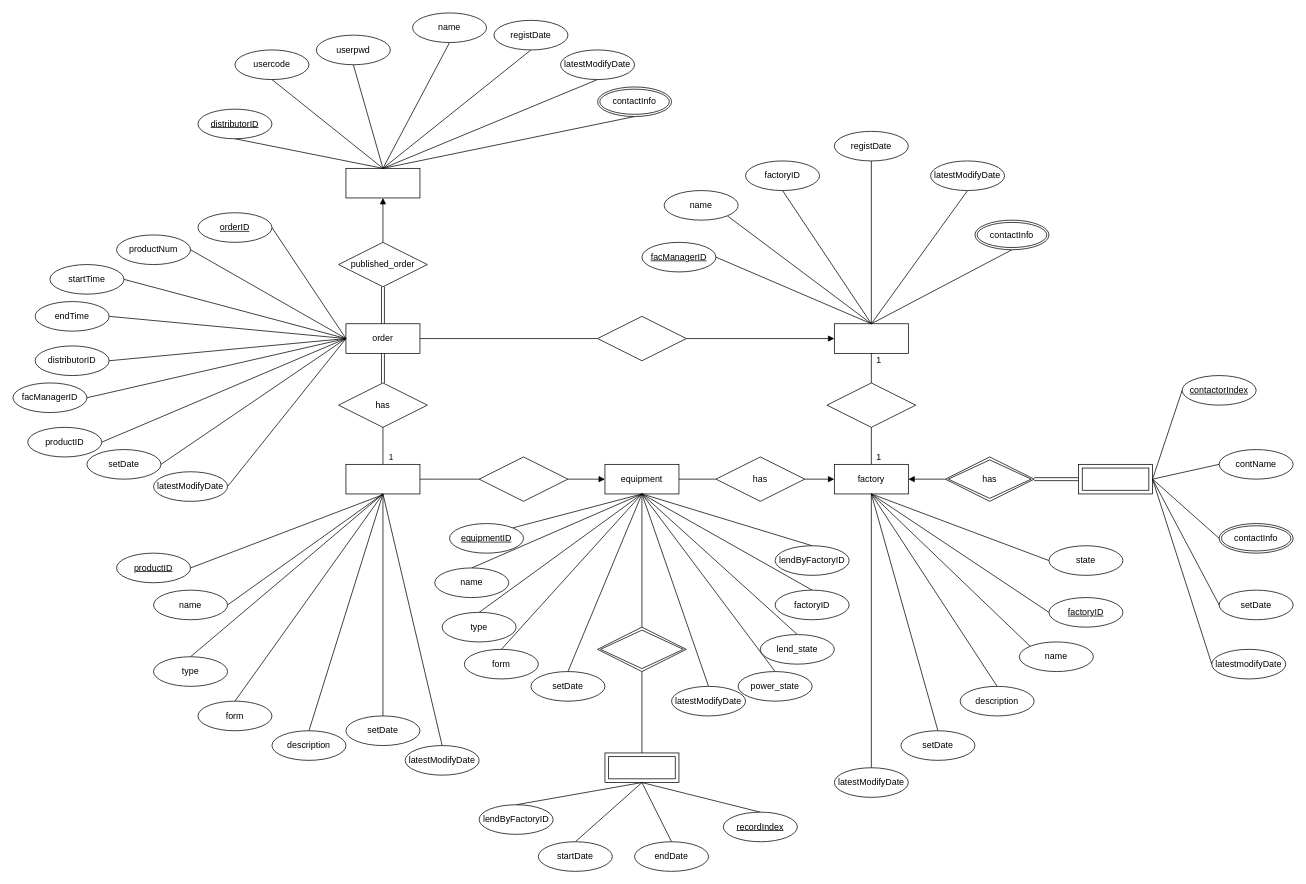
This 1306x884 diagram has some shape labels left out. The centre of each missing label's shape, as x and y in pixels:
"can_product" goes at (523,478).
"contactor" goes at (1115,479).
"distributor" goes at (382,183).
"facManager" goes at (871,338).
"owns" goes at (871,404).
"product" goes at (382,479).
"receive_order" goes at (641,338).
"rent" goes at (641,649).
"rentRecord" goes at (641,767).
